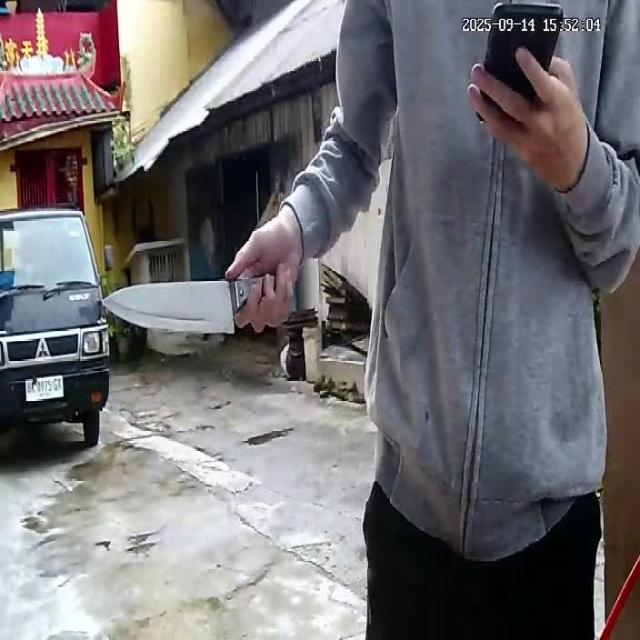senjata_tajam: (97, 274, 241, 338)
